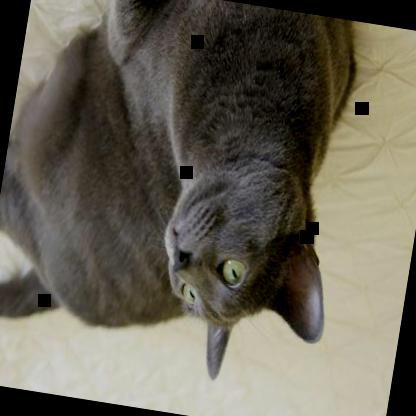cat: (0, 0, 375, 398)
